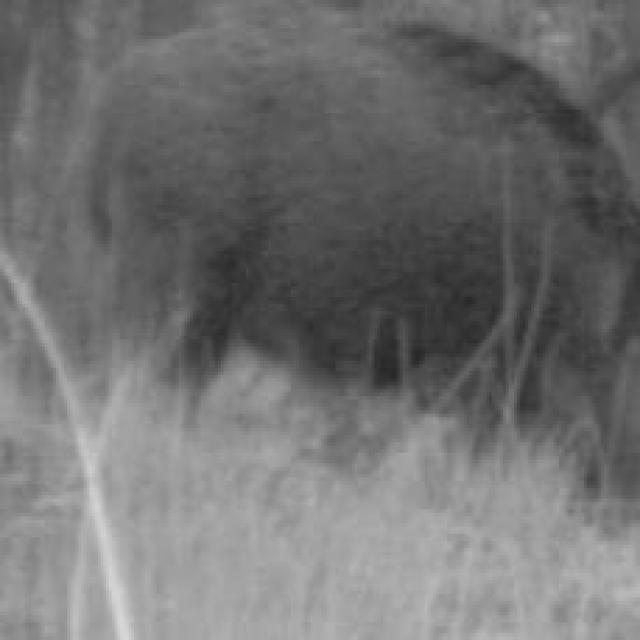pig: (98, 3, 640, 491)
